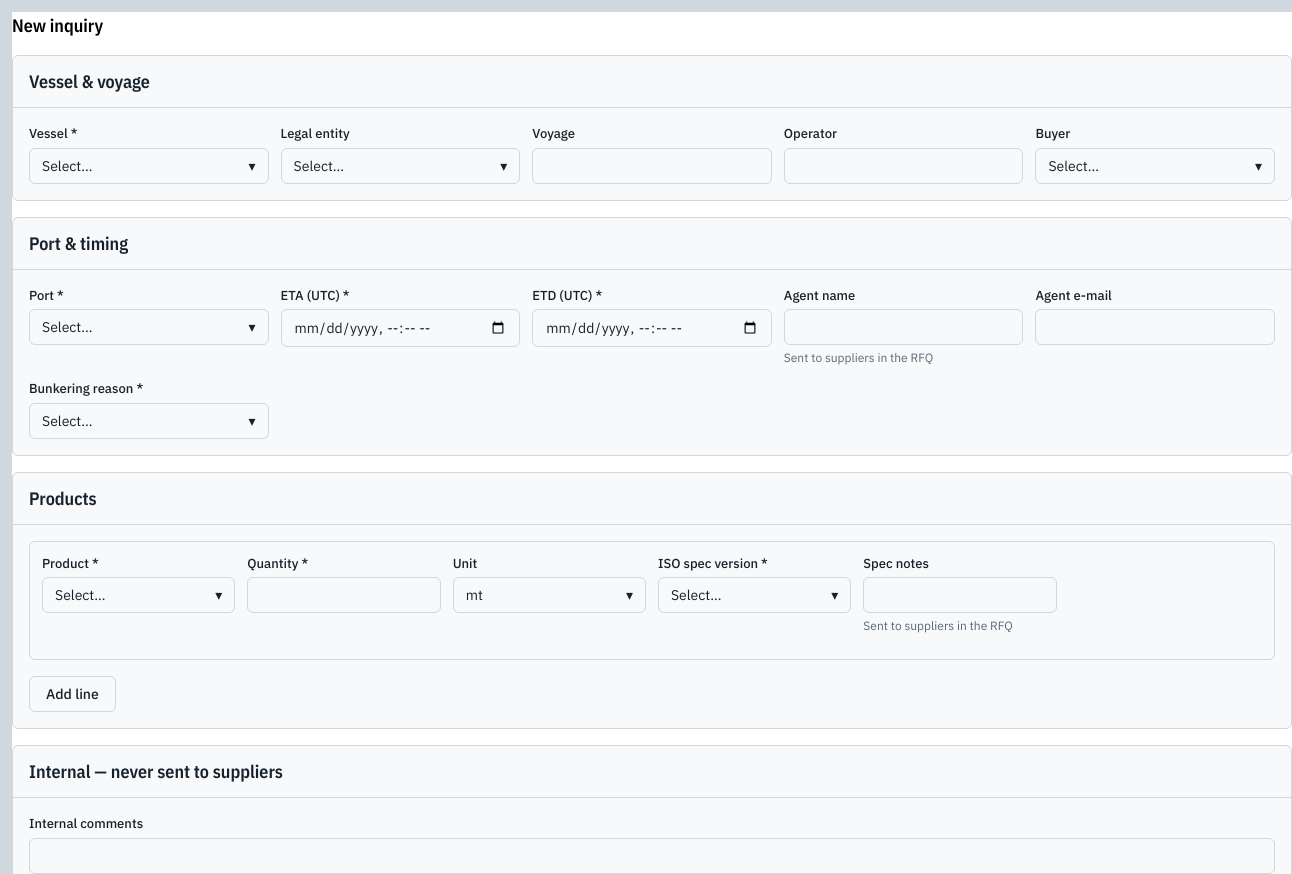
Test: InquiryPage vessel selection › [B2-R13] Review Focus 4: a changed vessel refills only values that still hold the old defaults
The image size is (1292, 874).
Click the dropdown named "Vessel": coordinates (149, 166) [29,148,269,184]
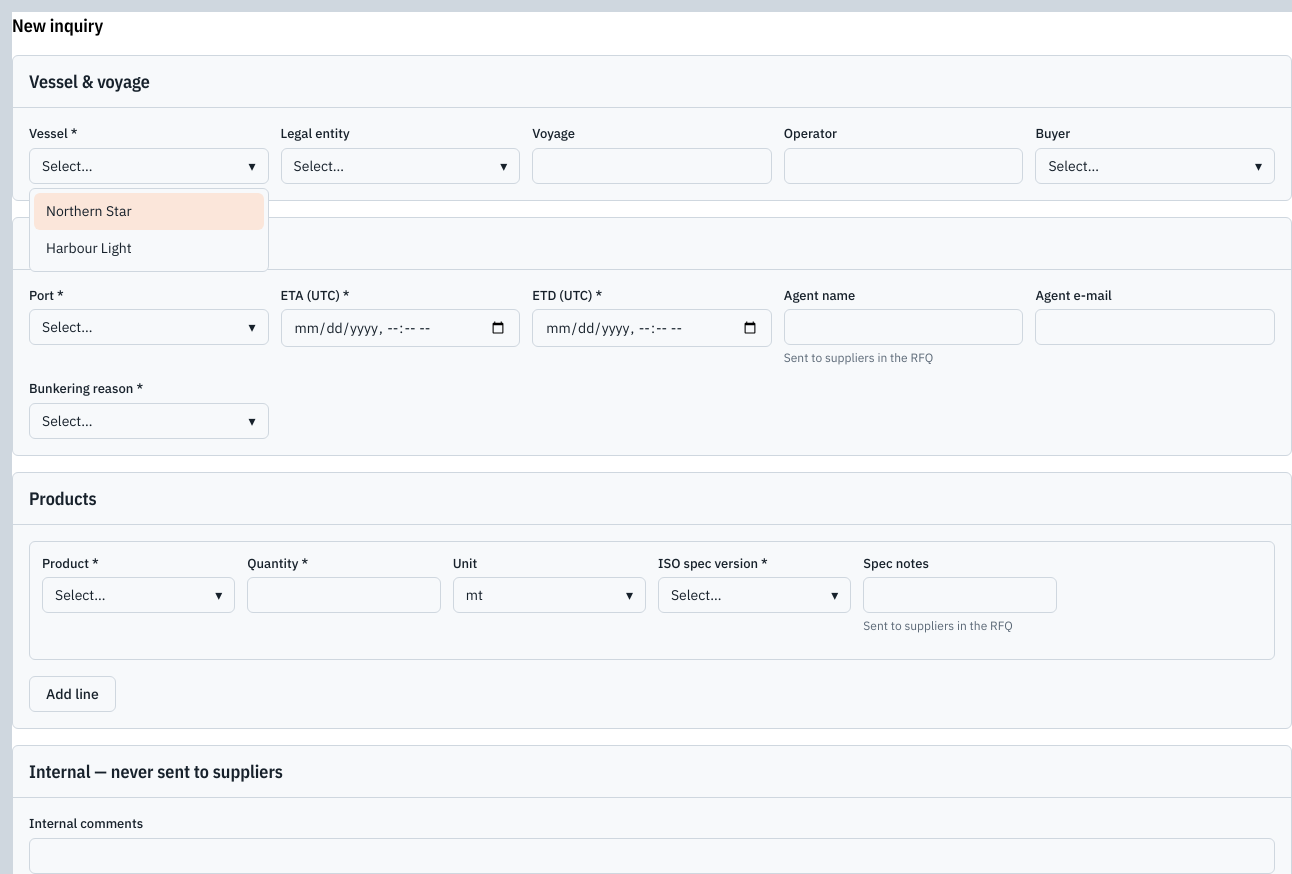
Click the option "Northern Star": coordinates (149, 212) [34,193,264,230]
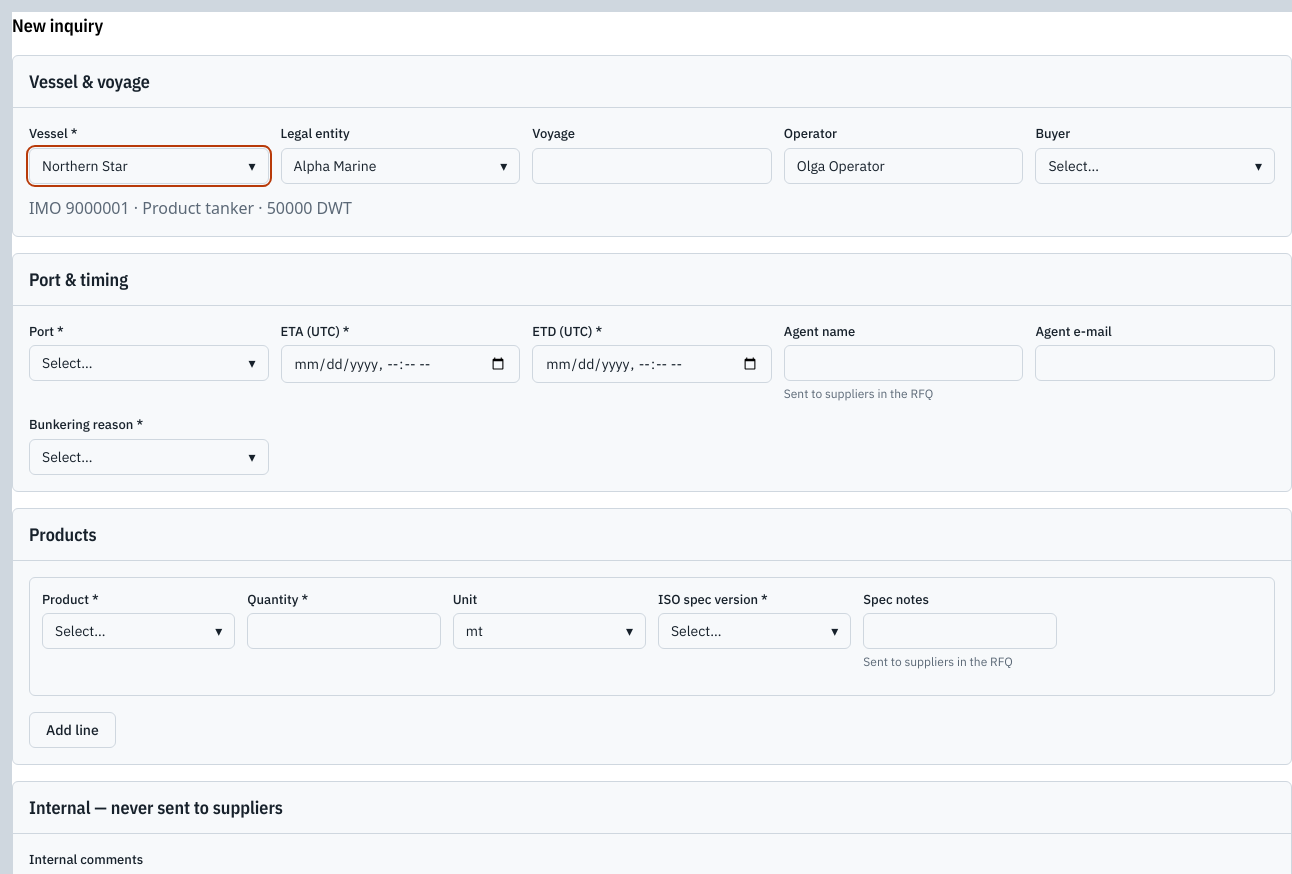
Replace the text in the field labelled "Operator" with "Own Choice": coordinates (904, 166) [784,148,1023,184]
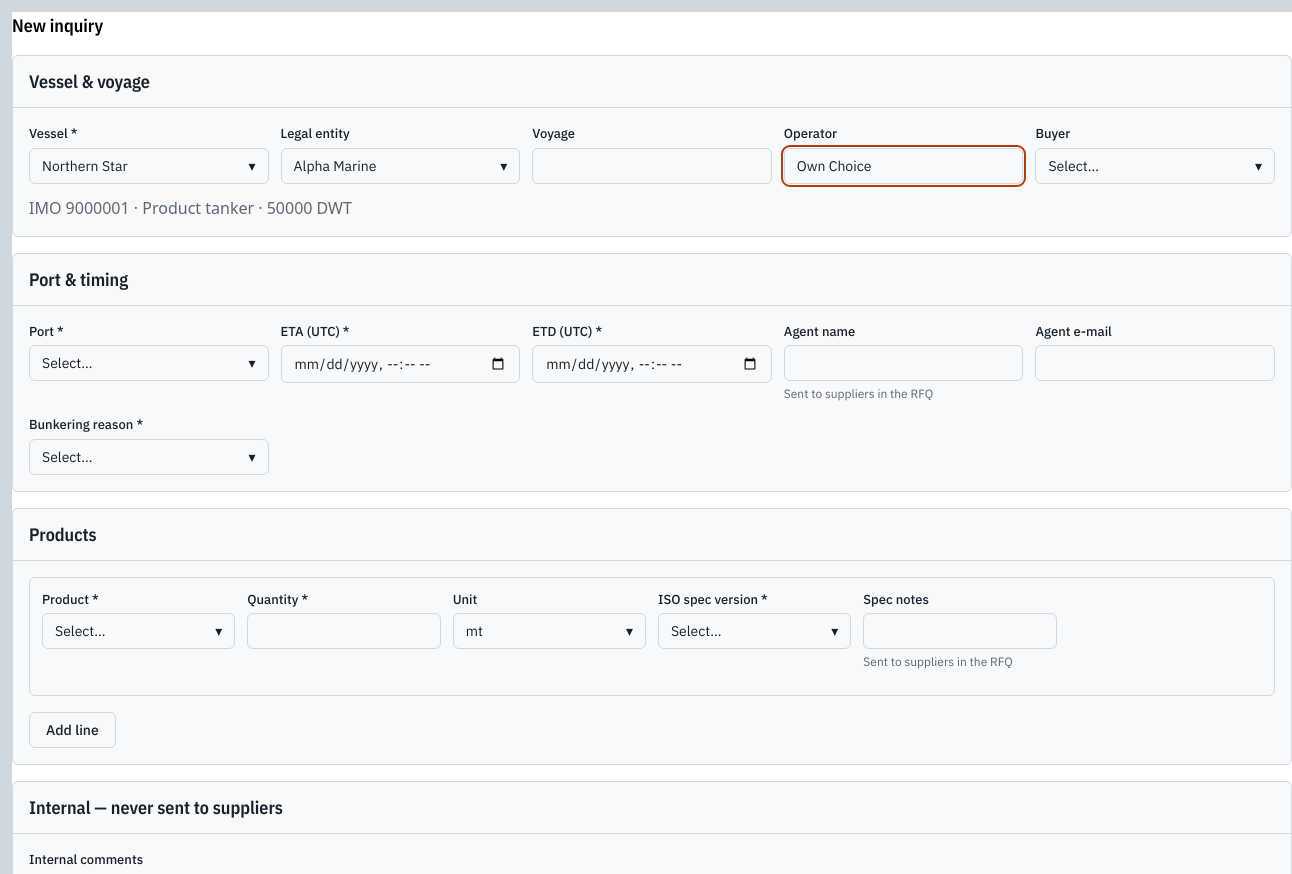
Click the dropdown named "Vessel": coordinates (149, 166) [29,148,269,184]
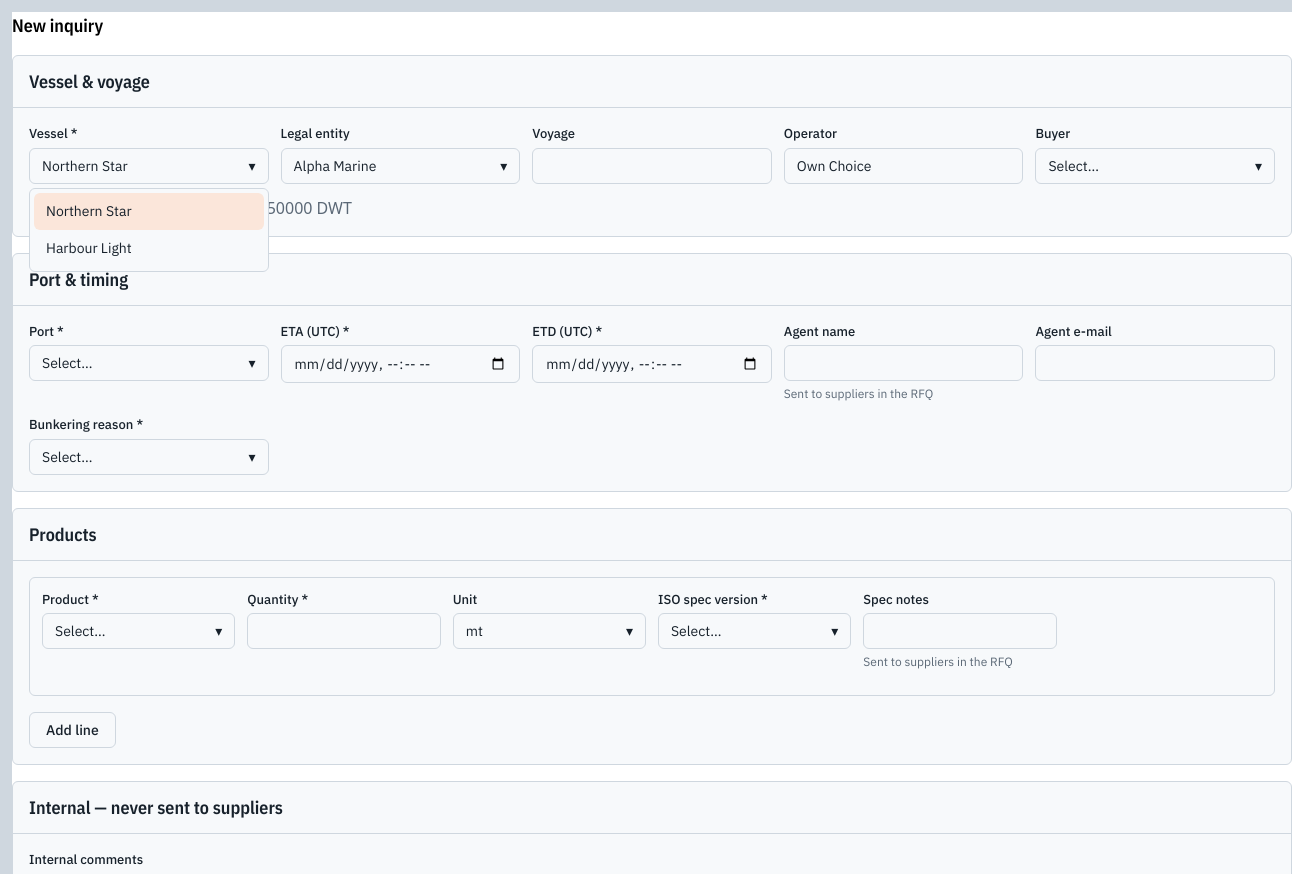
Click the option "Harbour Light": coordinates (89, 248) [46,239,132,257]
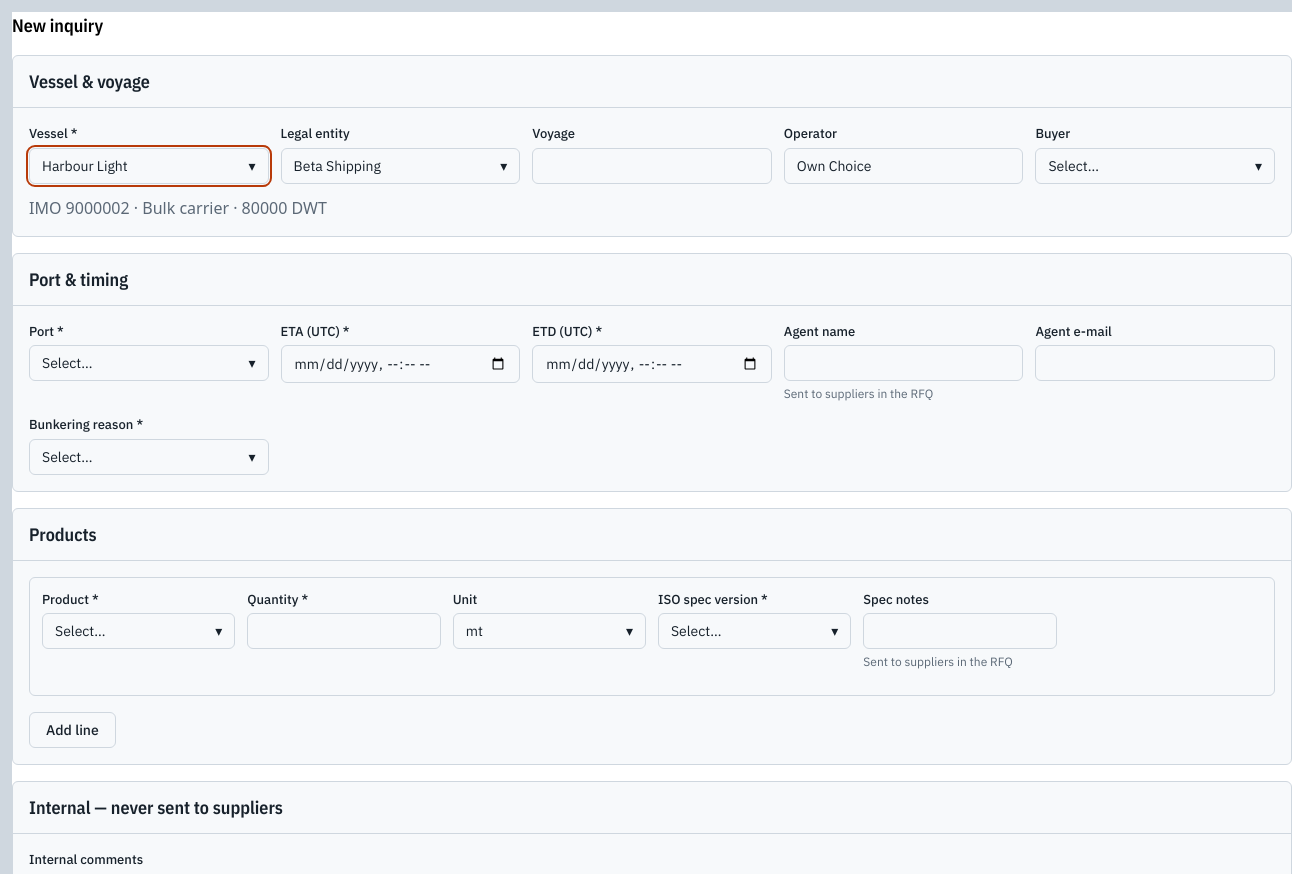
Now the dropdown named "Legal entity" shows "Beta Shipping", box [281,148,520,184]
